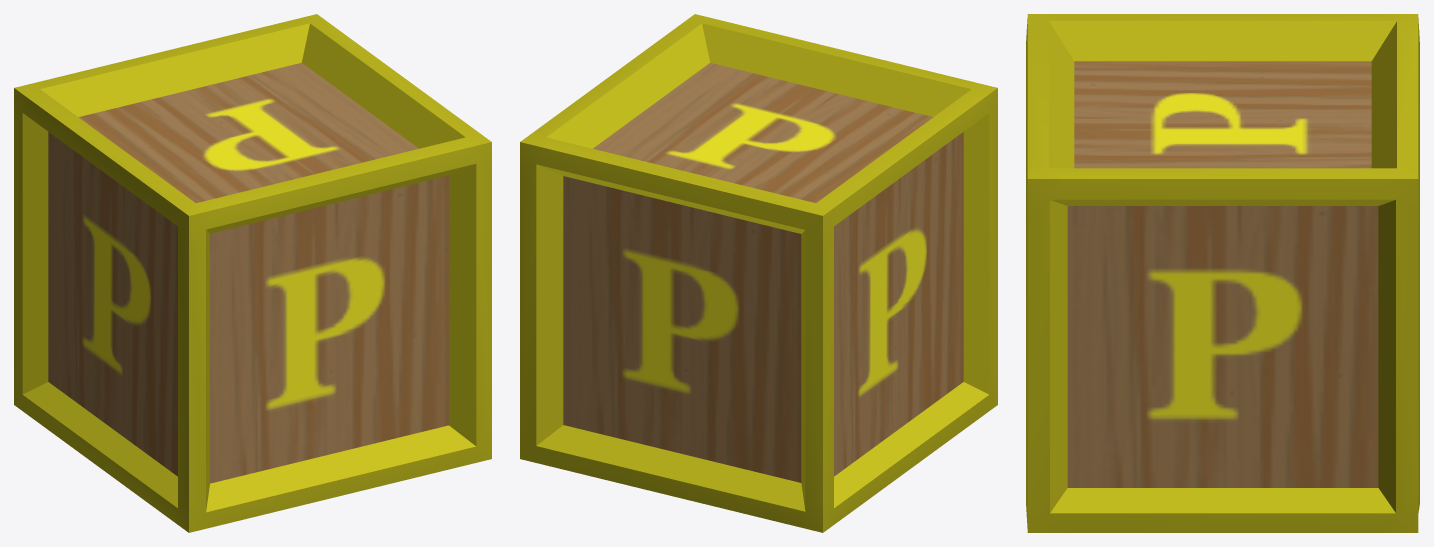
The model's file is Letter_P.fbx.
The picture shows the model from 3 angles, left to right: view 1: azimuth 30°, elevation 25°; view 2: azimuth 150°, elevation 25°; view 3: azimuth 270°, elevation 25°; orthographic projection. The views are drawn at different scales.
Parts seen in each view (by area): view 1: LetterBlock_P; view 2: LetterBlock_P; view 3: LetterBlock_P.
Boxes of the visible parts, left/top/right/bottom form: LetterBlock_P: left=14, top=14, right=491, bottom=532; LetterBlock_P: left=520, top=14, right=997, bottom=532; LetterBlock_P: left=1026, top=14, right=1419, bottom=532.
Size of the model in its own units: 0.1209 by 0.1213 by 0.121.
Materials: 1 (1 with a texture image).
